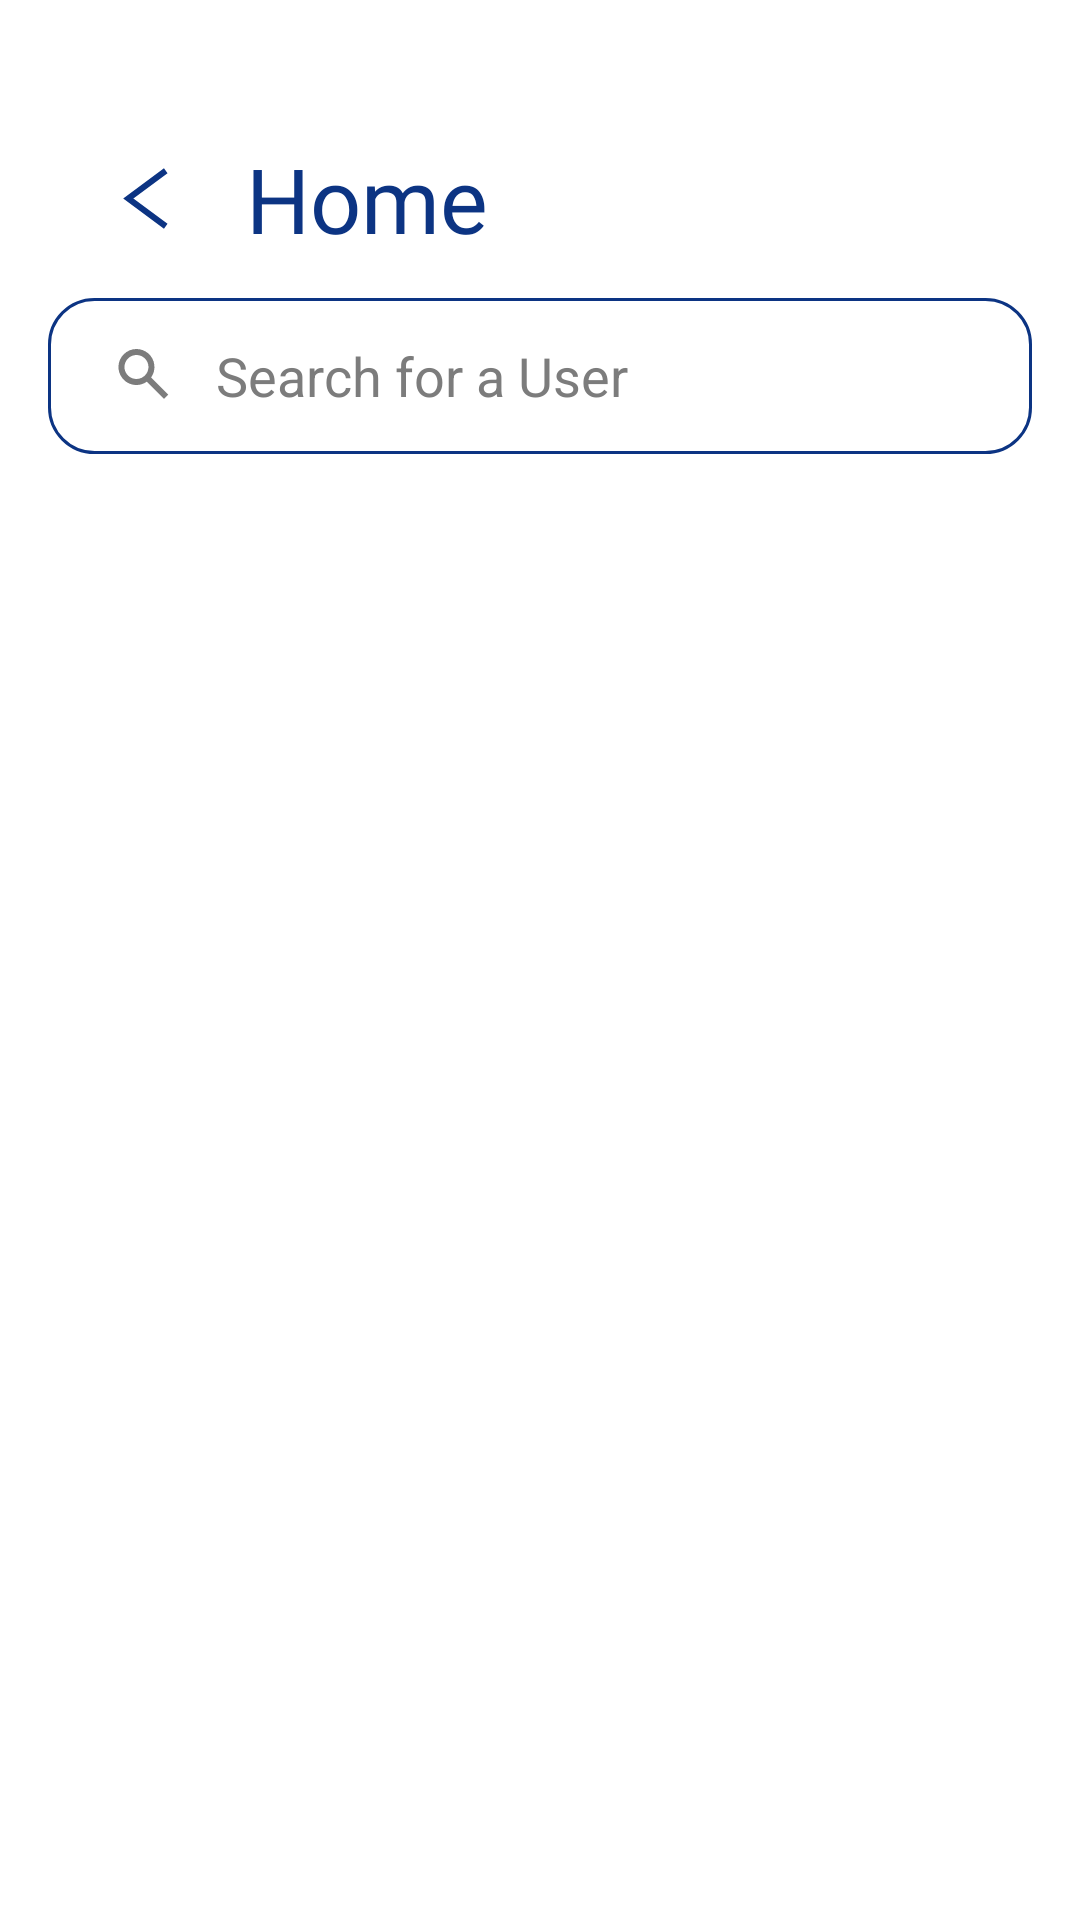

Where to tap for icons on this 1080px×1920px app screen, as point (x, y):
arrow left indigo: point (145, 198)
